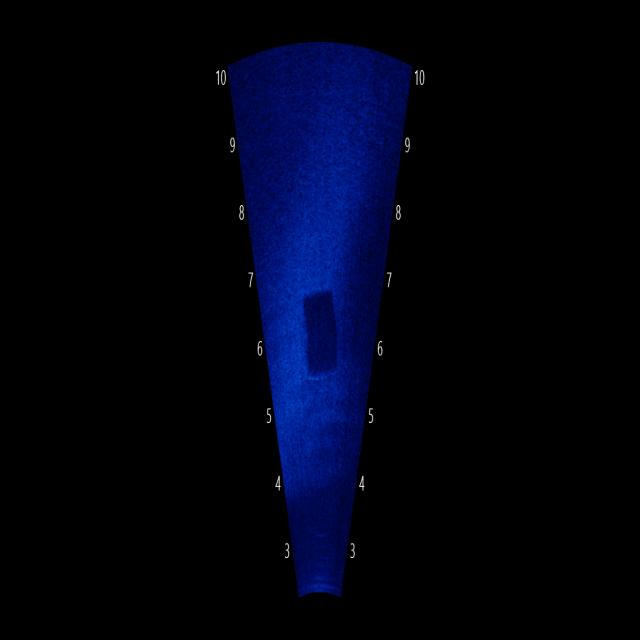square: (289, 263, 351, 406)
